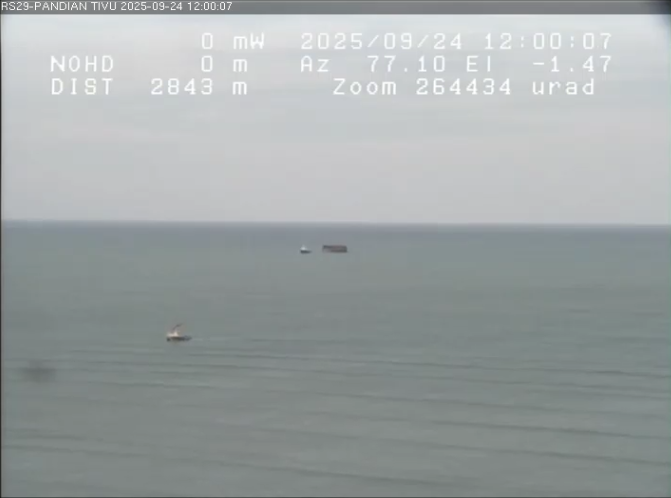BARGE: (318, 239, 363, 262)
FISHING_BOAT: (156, 321, 203, 352)
OFFSHORE_SUPPLY_VESSEL: (293, 242, 315, 257)
TOWING: (281, 224, 380, 282)
